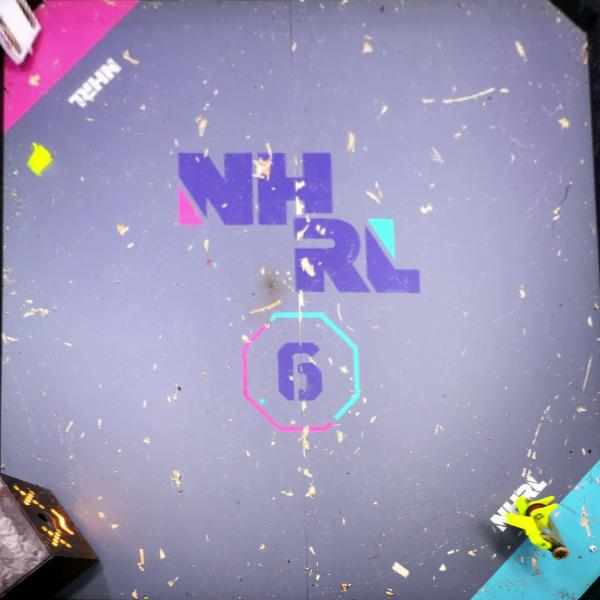housebot: (0, 472, 99, 600)
robot: (503, 494, 568, 560), (0, 0, 41, 67)
